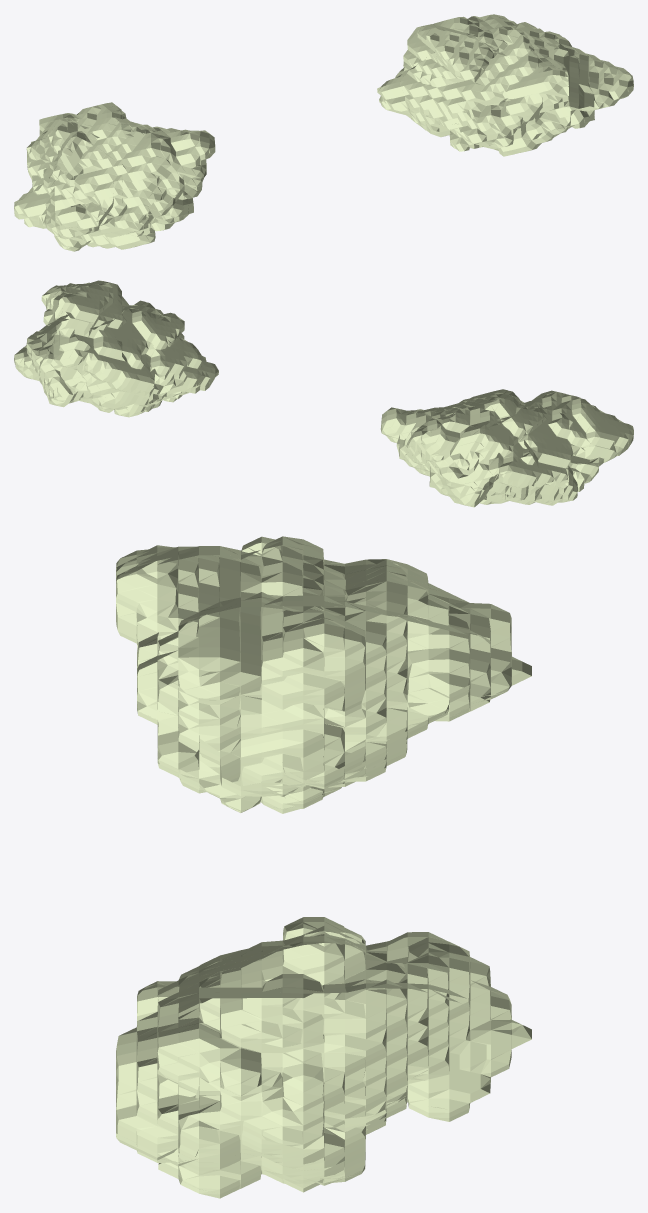
The model's file is VFB_00102176.glb.
3 renders of one model, top to bottom at view 1: azimuth 30°, elevation 25°; view 2: azimuth 150°, elevation 25°; view 3: azimuth 270°, elevation 25°, orthographic. The views are drawn at different scales.
Parts seen in each view (by area): view 1: VFB_00102176; view 2: VFB_00102176; view 3: VFB_00102176.
Part boxes in pixels (left/top/right/bottom): VFB_00102176: left=14, top=14, right=633, bottom=251; VFB_00102176: left=14, top=280, right=633, bottom=507; VFB_00102176: left=116, top=536, right=531, bottom=1198.
Size of the model in its own units: 0.2573 by 0.0456 by 0.0785.
